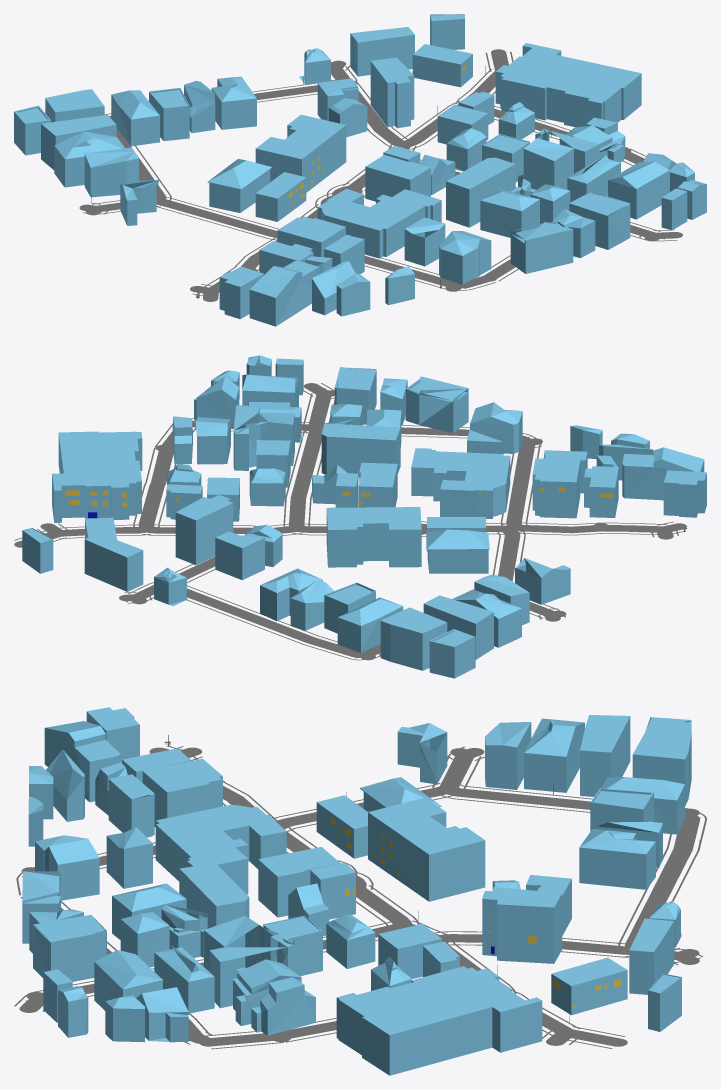
The model's file is results_route2_lod3.obj.
3 renders of one model, top to bottom at view 1: azimuth 30°, elevation 25°; view 2: azimuth 150°, elevation 25°; view 3: azimuth 270°, elevation 25°, orthographic. The views are drawn at different scales.
Bounding box in the file's own units: 161 × 12.75 × 142.
